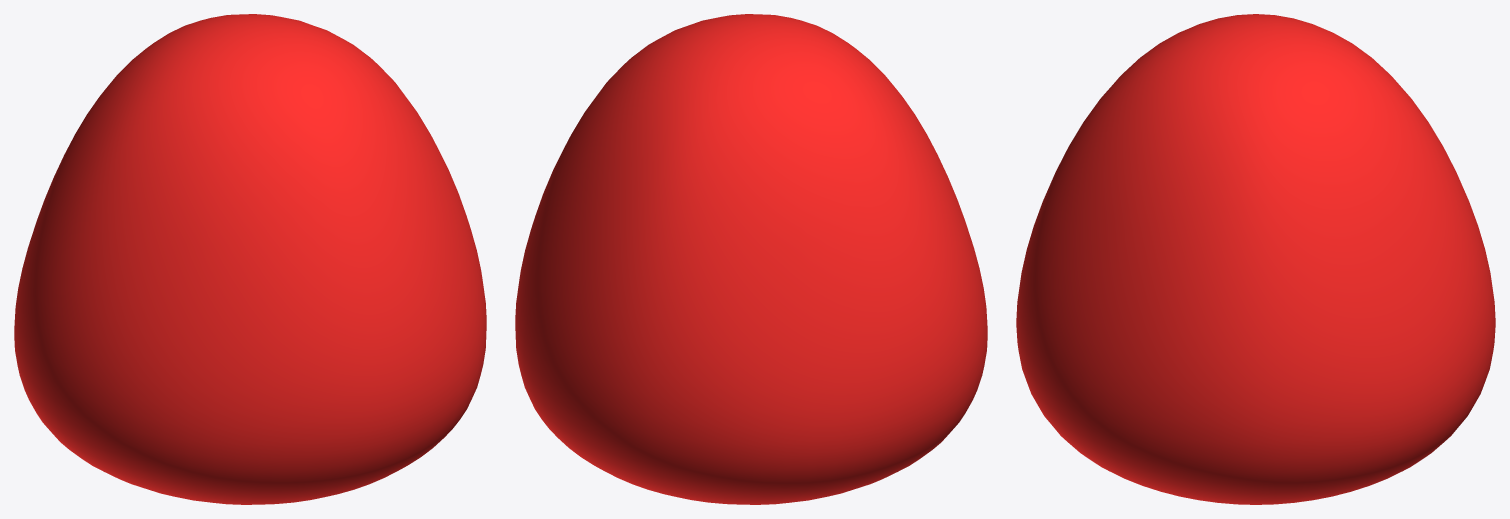
Rendered from GameSlime.fbx.
3 renders of one model, left to right at view 1: azimuth 30°, elevation 25°; view 2: azimuth 150°, elevation 25°; view 3: azimuth 270°, elevation 25°, orthographic.
Parts seen in each view (by area): view 1: Slime.outer; view 2: Slime.outer; view 3: Slime.outer.
Boxes of the visible parts, box(x1,y1,x2,y2) form: Slime.outer: box(14, 14, 486, 504); Slime.outer: box(515, 14, 987, 504); Slime.outer: box(1016, 14, 1495, 504).
Bounding box in the file's own units: 127 × 128 × 127.
